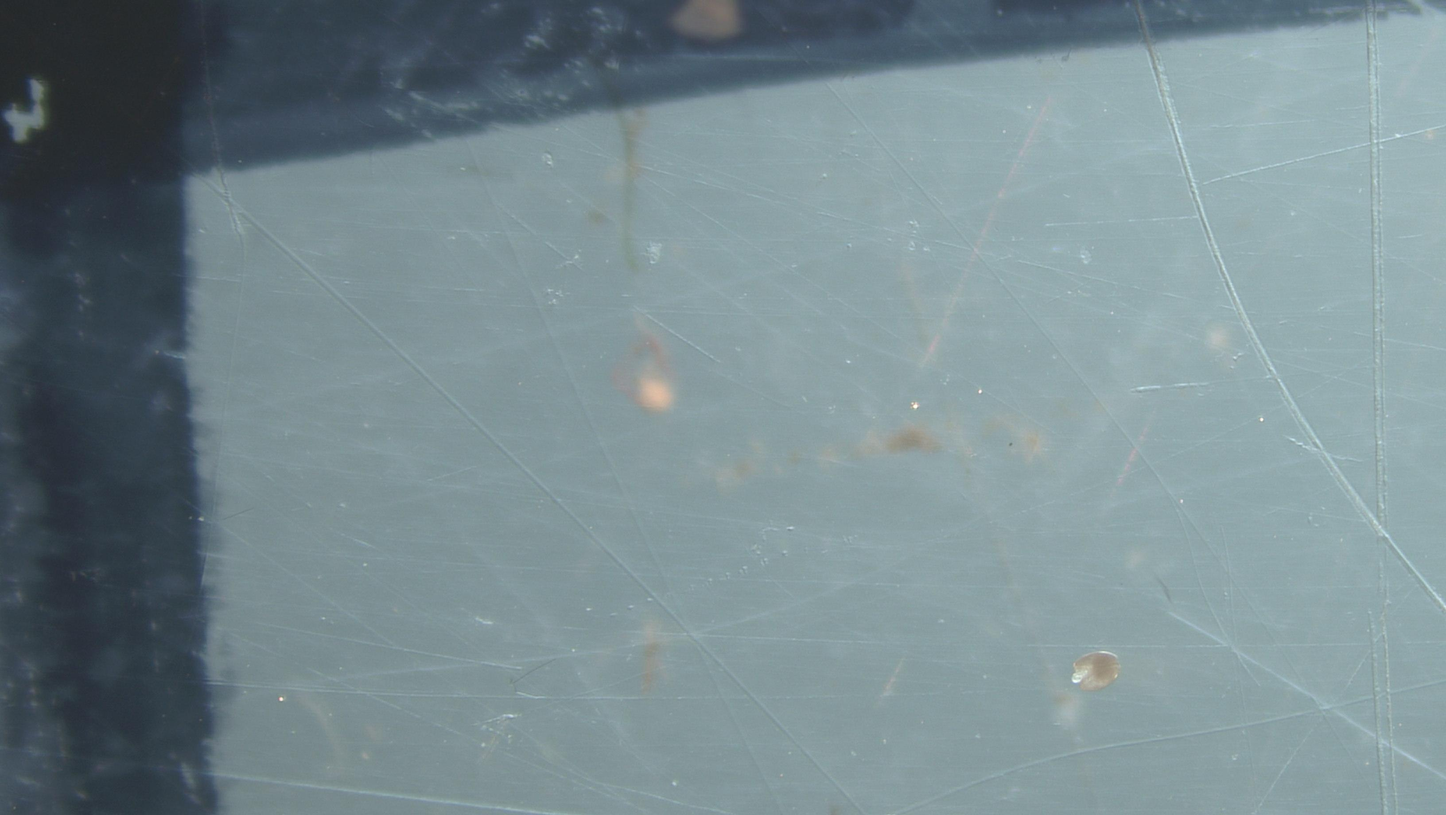live: (672, 0, 742, 41), (1071, 651, 1120, 691)
